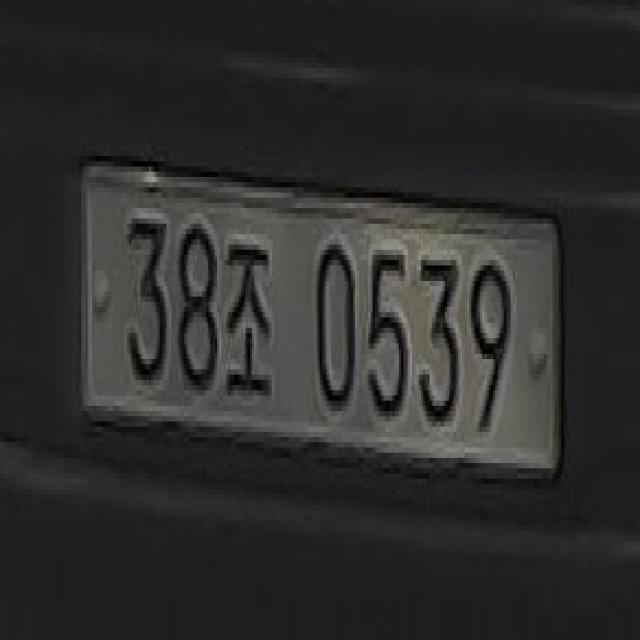0: (311, 234, 357, 416)
3: (414, 244, 462, 432), (123, 208, 171, 385)
5: (364, 229, 412, 427)
8: (174, 208, 222, 396)
9: (462, 250, 510, 432)
jo: (219, 218, 276, 406)
license_plate: (77, 161, 563, 489)
